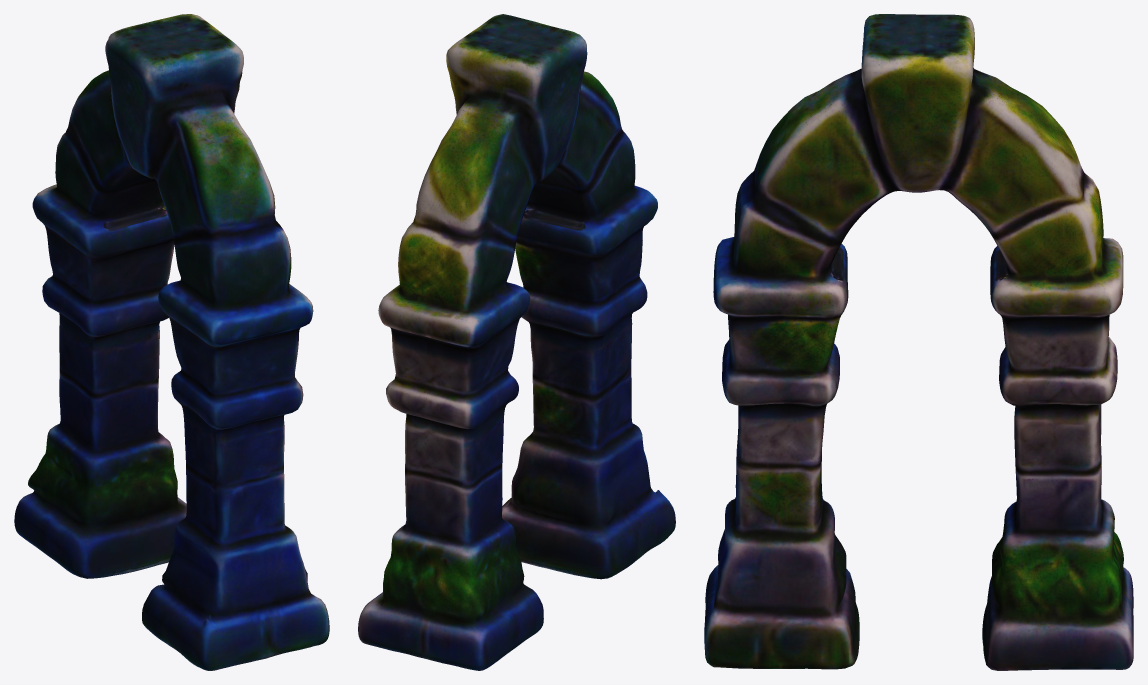
The model's file is 510a8b56805d_stylized_low_poly_s.fbx.
3 renders of one model, left to right at view 1: azimuth 30°, elevation 25°; view 2: azimuth 150°, elevation 25°; view 3: azimuth 270°, elevation 25°, orthographic. The views are drawn at different scales.
Visible parts, largest first — view 1: mesh; view 2: mesh; view 3: mesh.
Boxes of the visible parts, box(x1,y1,x2,y2) form: mesh: box(14, 14, 329, 670); mesh: box(358, 14, 675, 670); mesh: box(704, 14, 1133, 670).
Bounding box in the file's own units: 24.96 × 99.91 × 64.08.
